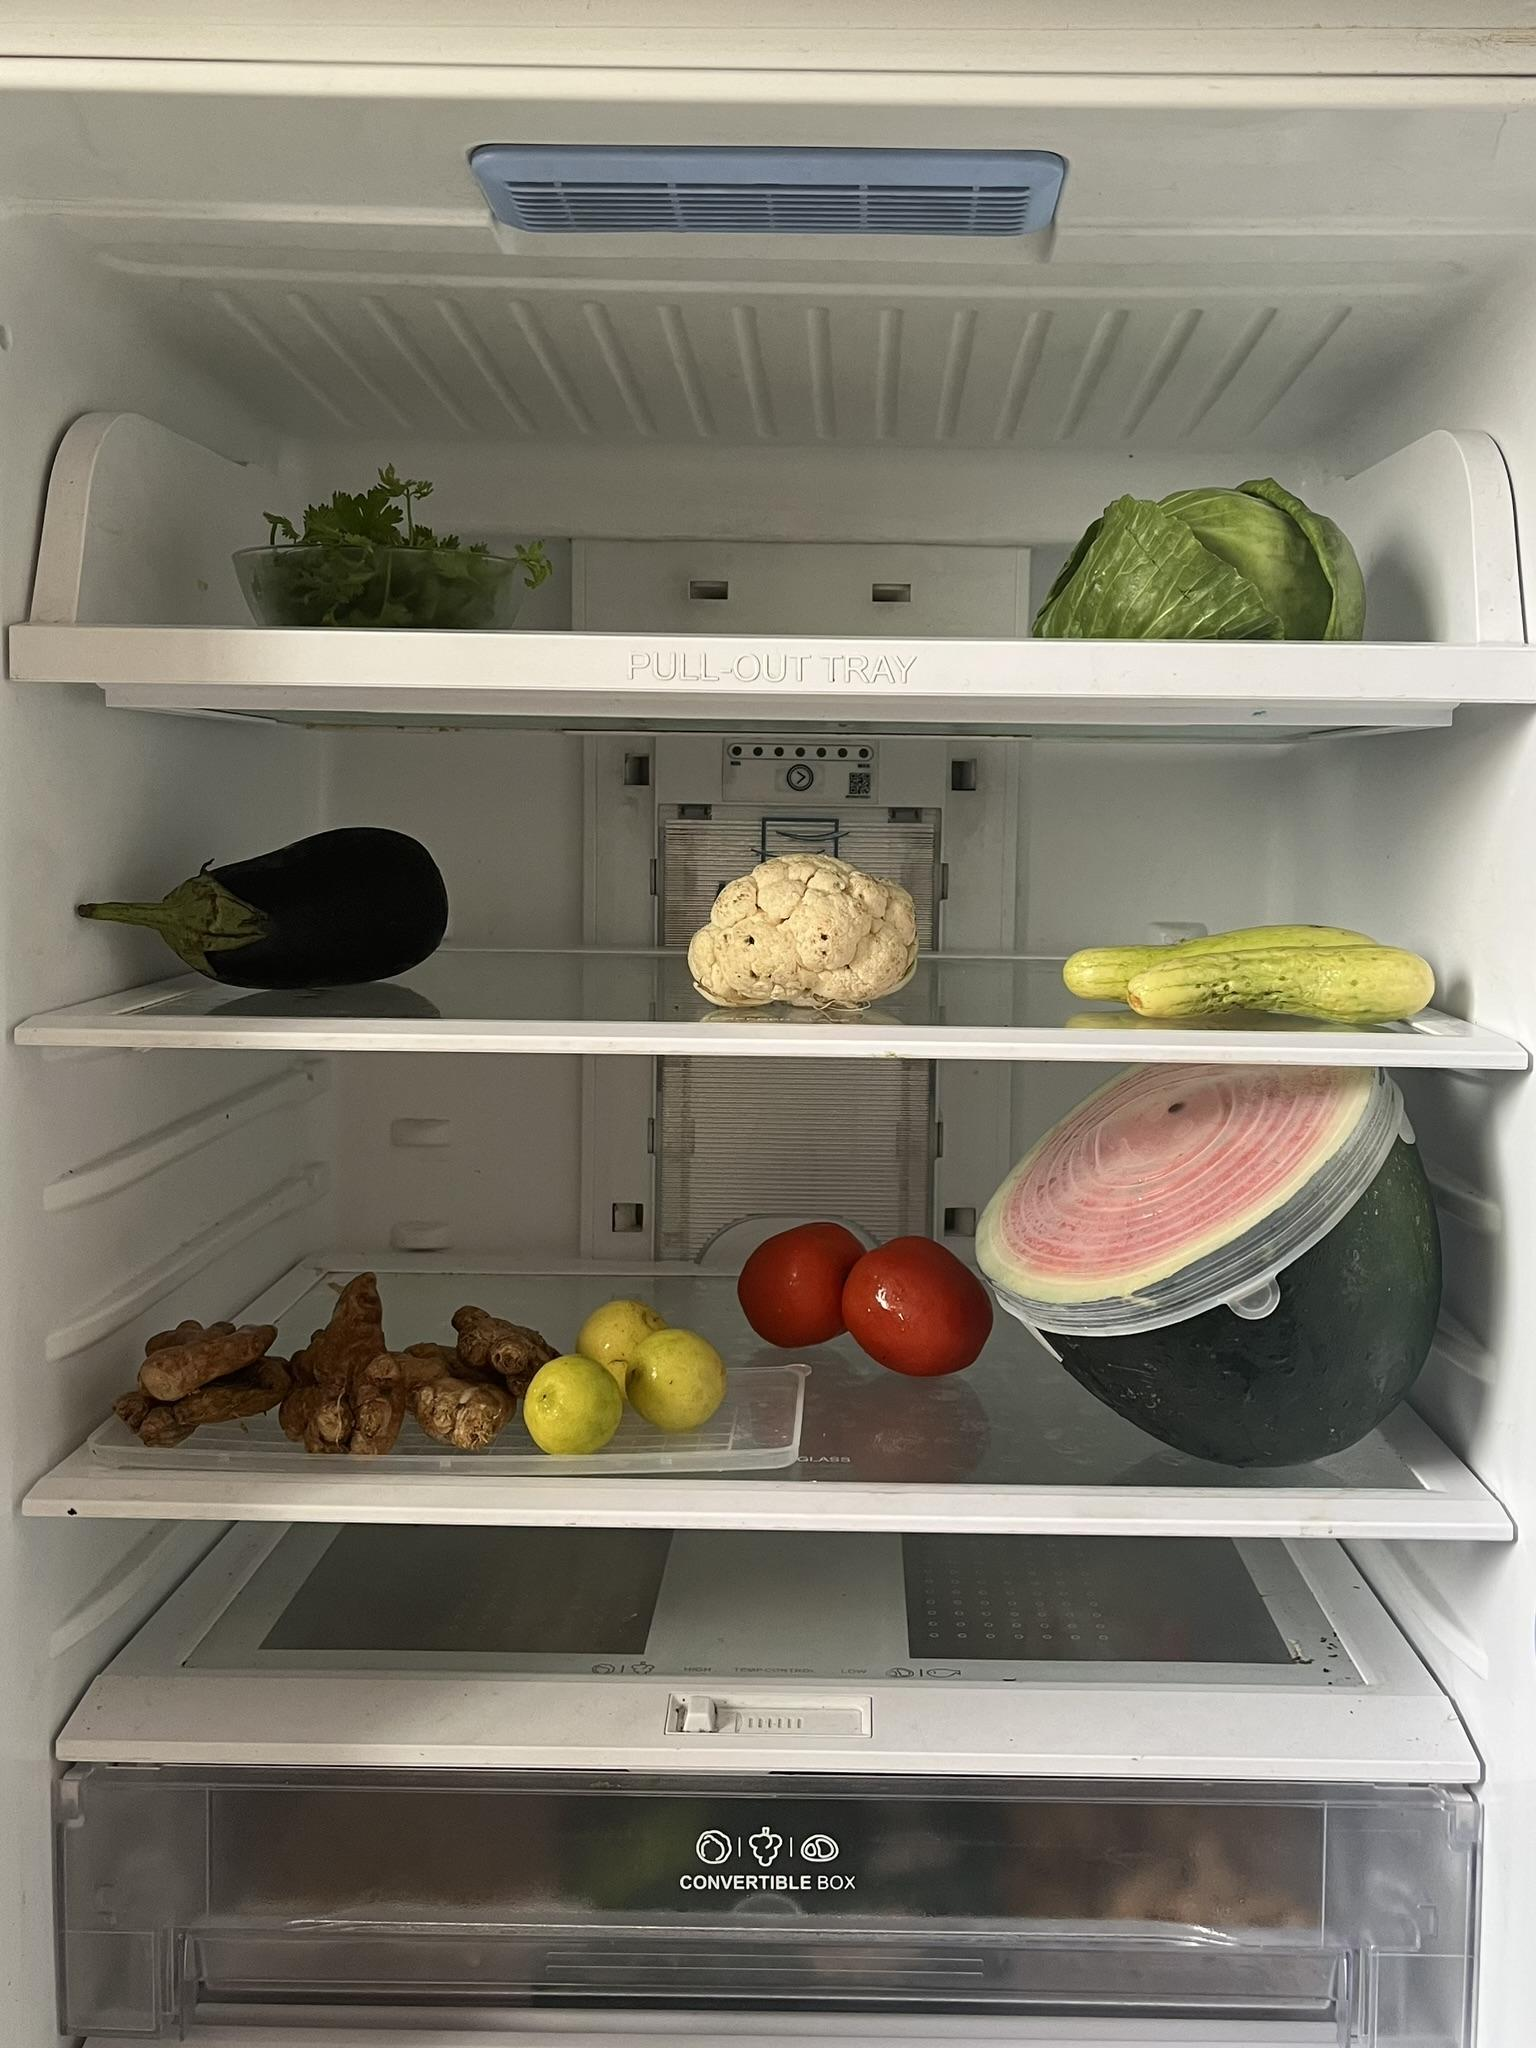bringal: (73, 824, 460, 984)
cabbage: (1050, 481, 1386, 640)
cauliflower: (694, 853, 926, 1006)
coriander: (240, 460, 510, 616)
cucumber: (1060, 927, 1439, 1016)
ginger: (144, 1280, 523, 1450)
lemon: (534, 1293, 720, 1447)
tomato: (741, 1216, 987, 1371)
watermelon: (987, 1056, 1444, 1471)
